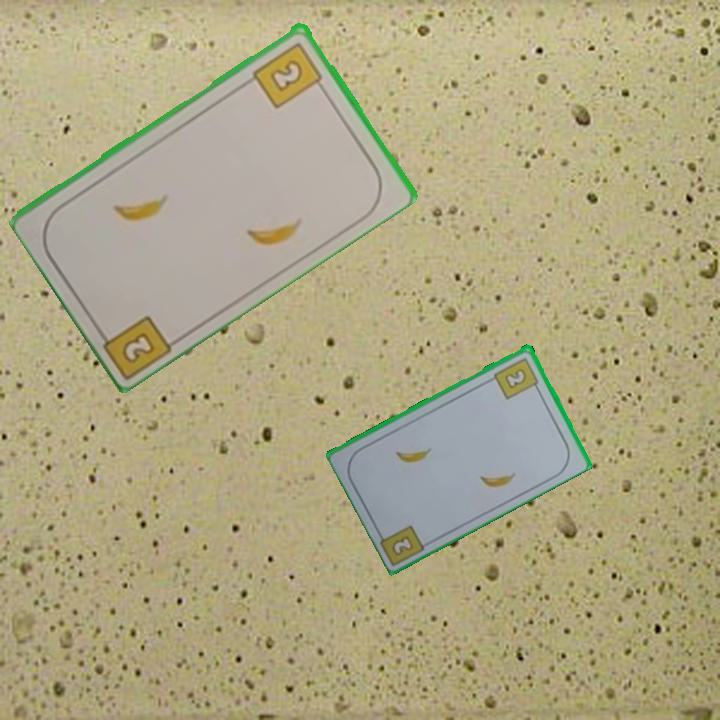2b: (249, 38, 328, 111), (92, 311, 176, 379), (491, 354, 542, 402), (390, 531, 417, 556)
